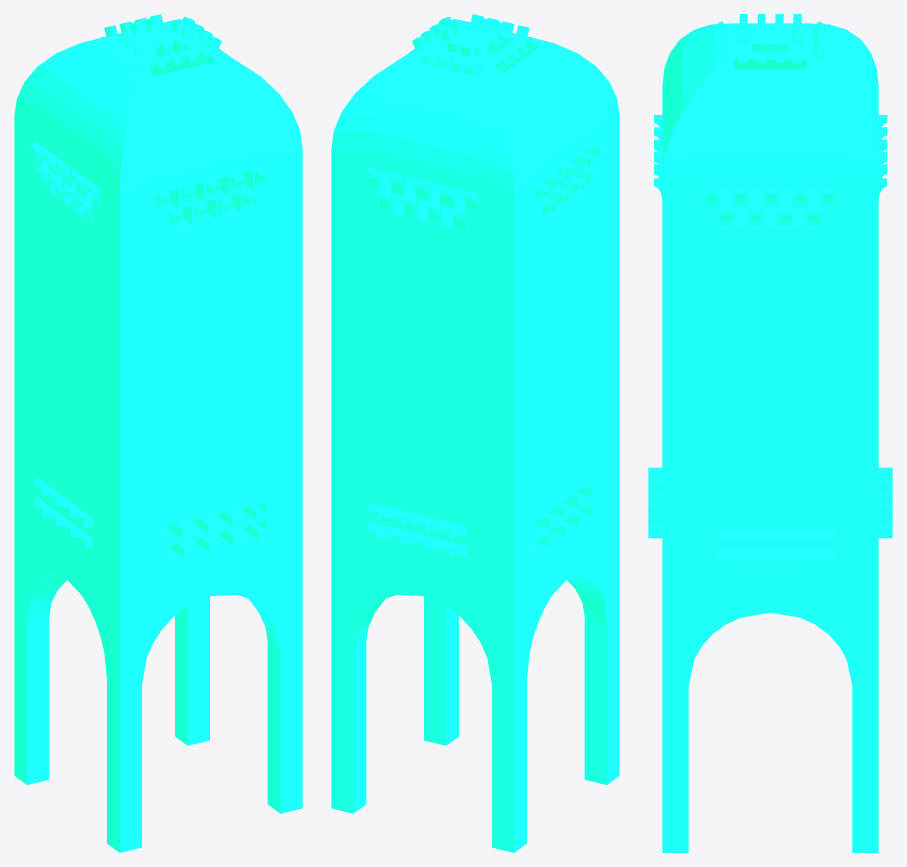
3 renders of one model, left to right at view 1: azimuth 30°, elevation 25°; view 2: azimuth 150°, elevation 25°; view 3: azimuth 270°, elevation 25°, orthographic. The views are drawn at different scales.
Parts seen in each view (by area): view 1: Object_1.021; view 2: Object_1.021; view 3: Object_1.021.
Boxes of the visible parts, x1=… form: Object_1.021: x1=14, y1=14, x2=302, y2=852; Object_1.021: x1=331, y1=14, x2=619, y2=852; Object_1.021: x1=648, y1=14, x2=892, y2=852.
Bounding box in the file's own units: 5.19 × 18.23 × 5.17.
